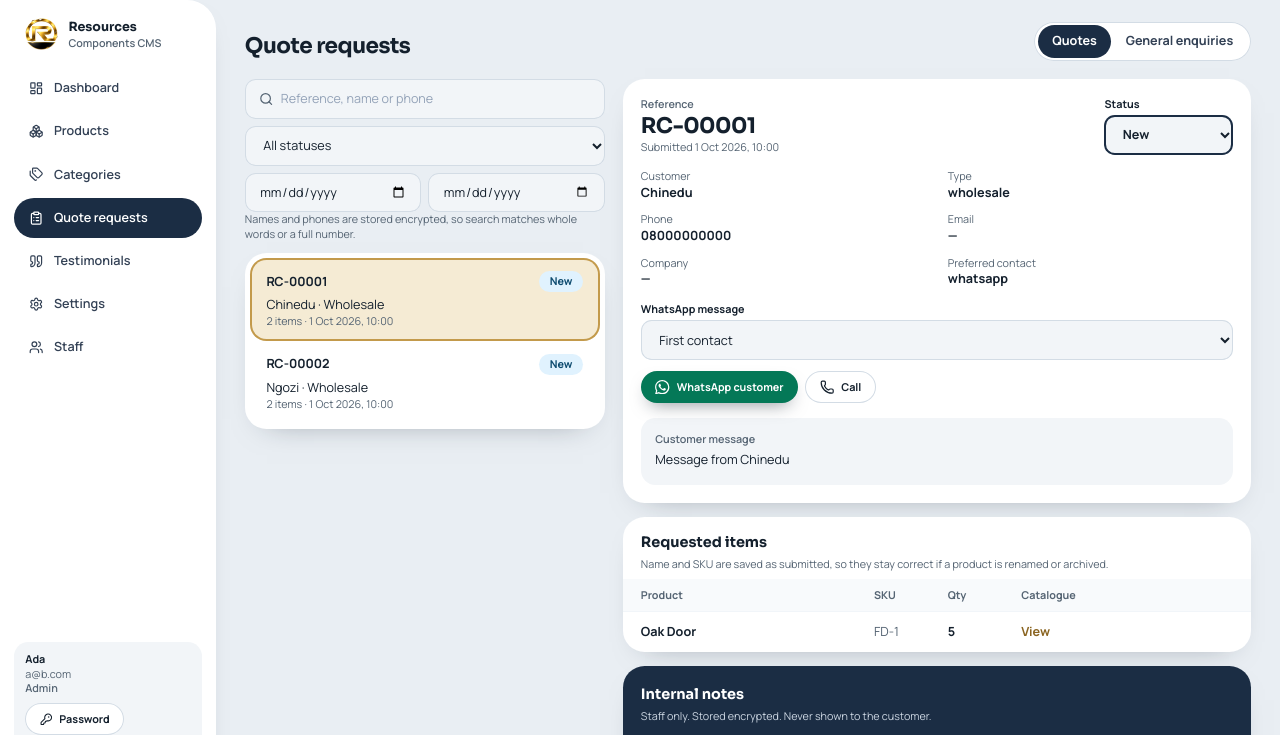
Test case: the General enquiries tab shows enquiries in the same split layout, first one open
Expected: the heading "RC-00001" is shown, x1=641 y1=112 x2=756 y2=139
Click the tab "General enquiries": (1179, 41) x1=1111 y1=25 x2=1248 y2=58
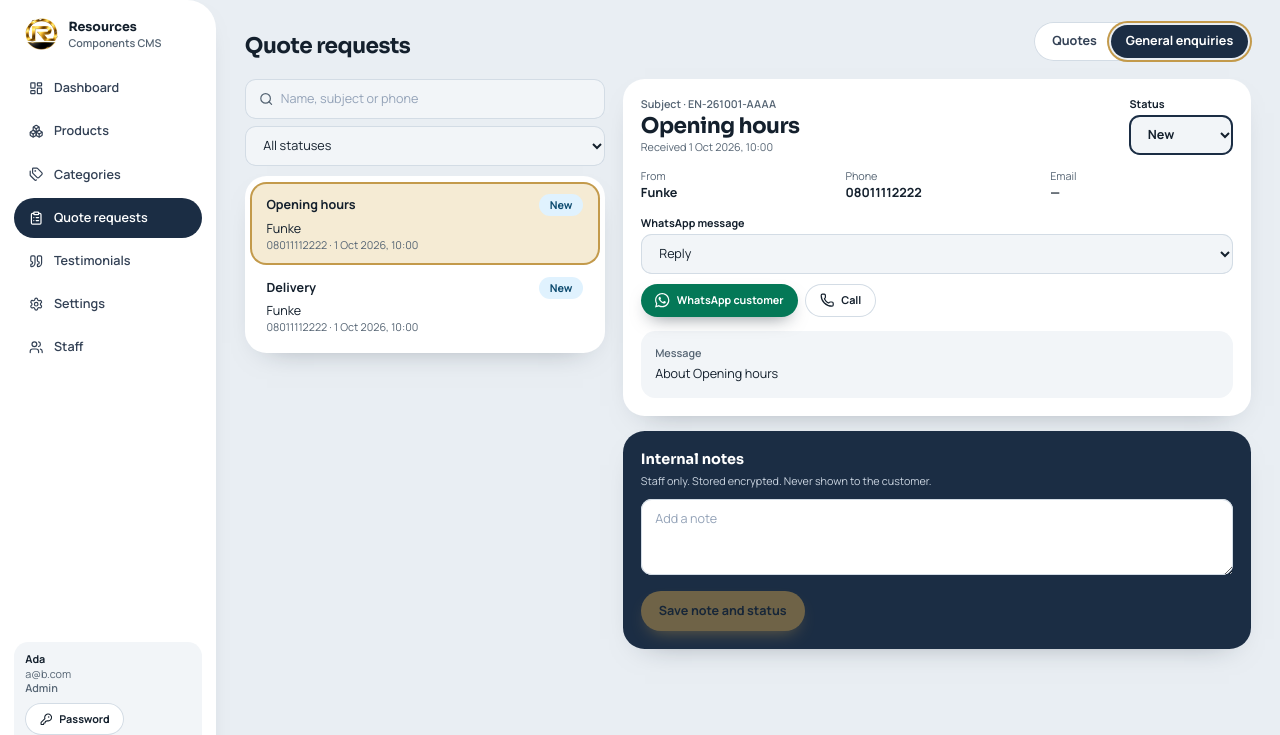
Now the heading "Opening hours" is shown, box x1=641 y1=112 x2=800 y2=140
Now the text "About Opening hours" is shown, box x1=655 y1=364 x2=778 y2=382
Click the button with aria-label "Open enquiry Delivery": (291, 287) x1=252 y1=266 x2=598 y2=346
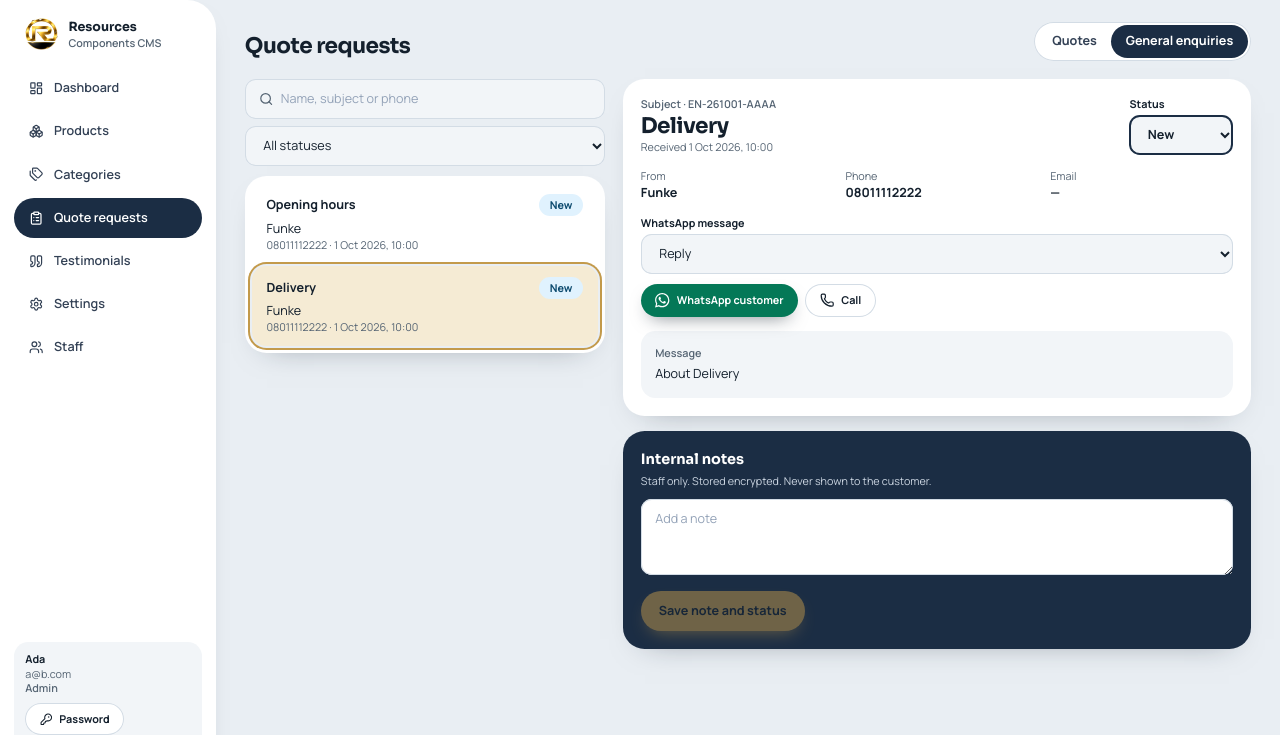
Now the heading "Delivery" is shown, box x1=641 y1=112 x2=729 y2=139
